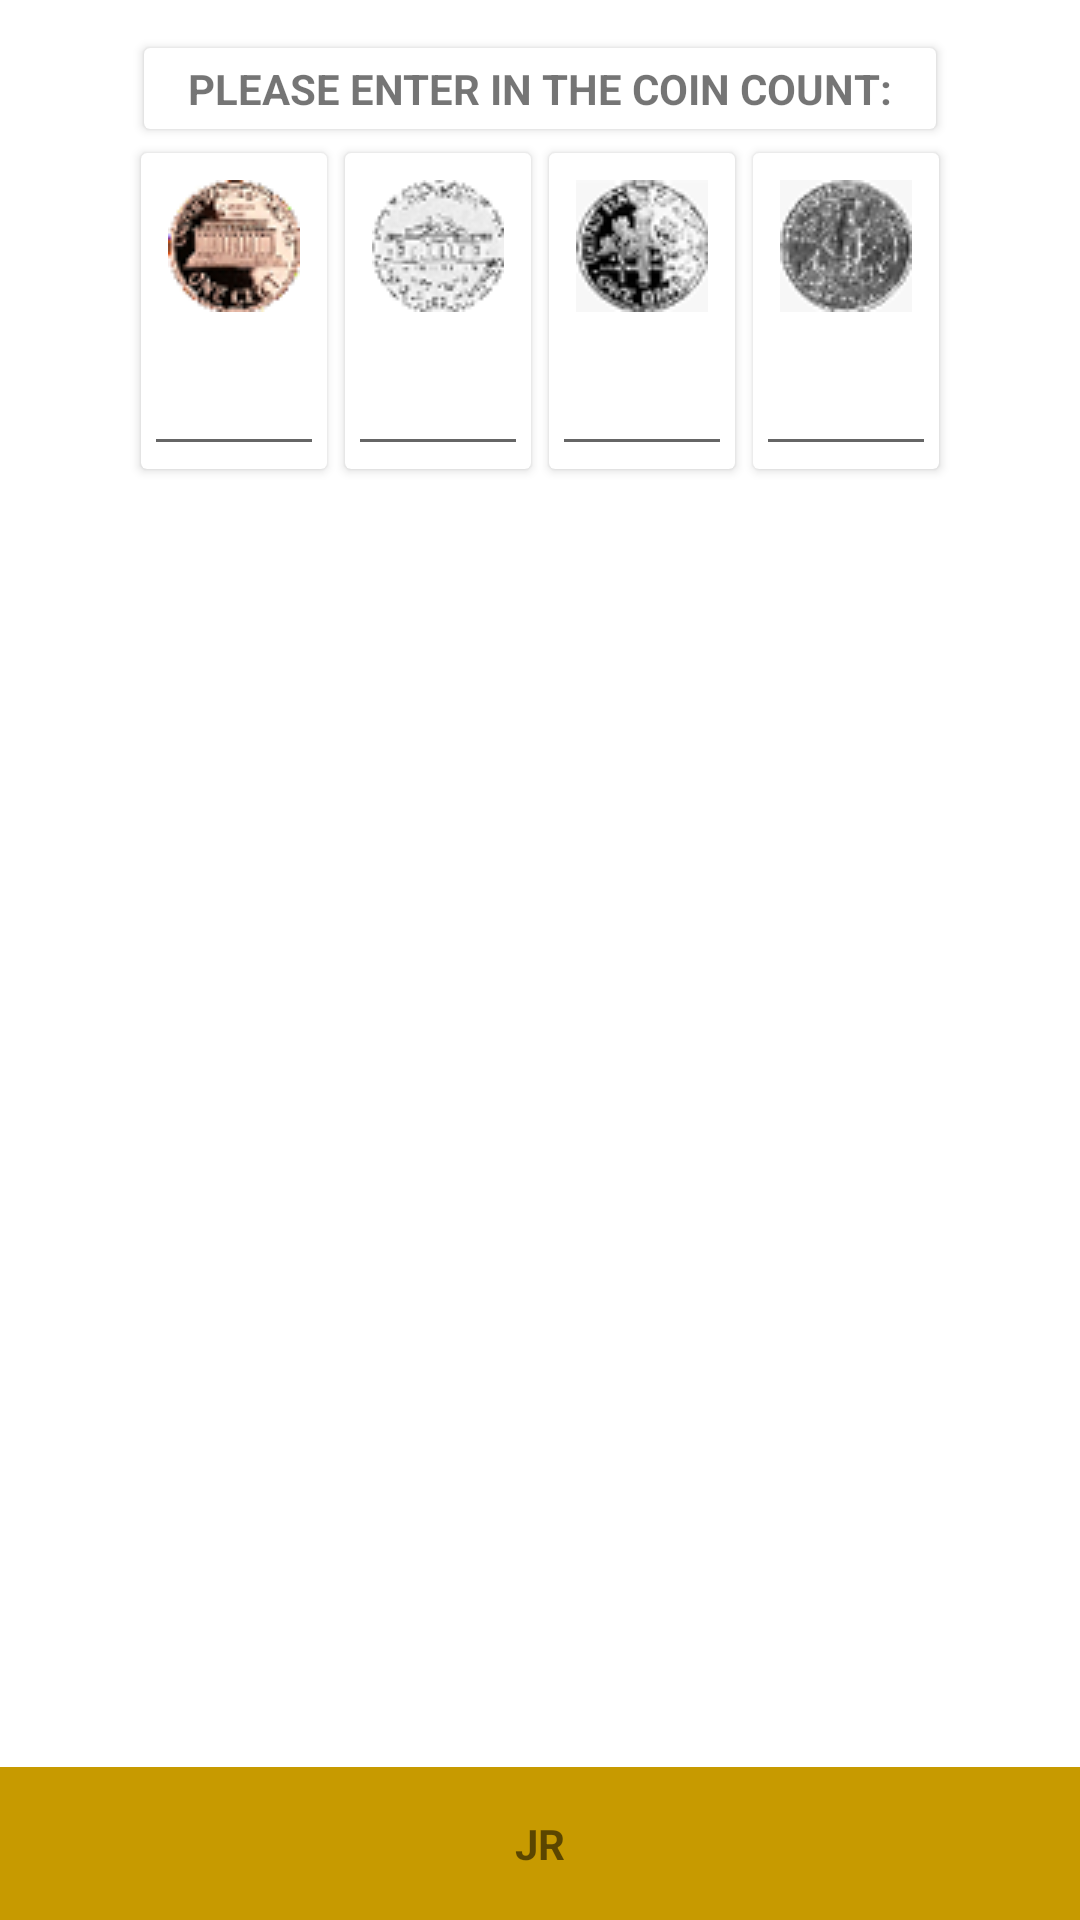

Icons on this 1080×1920 Android screen, each with the point to tap as (x,y):
nickel: (438,246)
quarter: (846,246)
